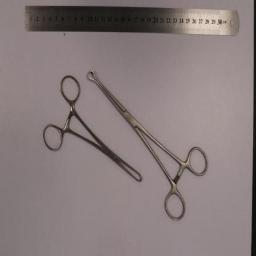Allis Tissue Forceps: (42, 74, 142, 182)
